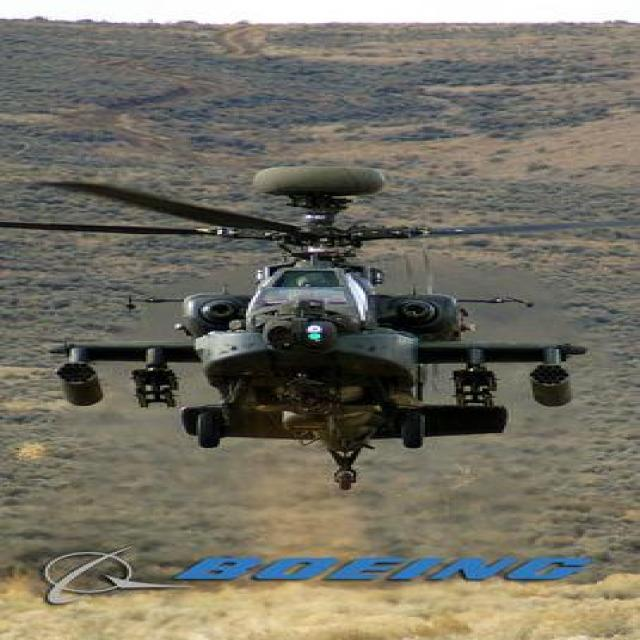MIL_HELO: (11, 166, 640, 484)
